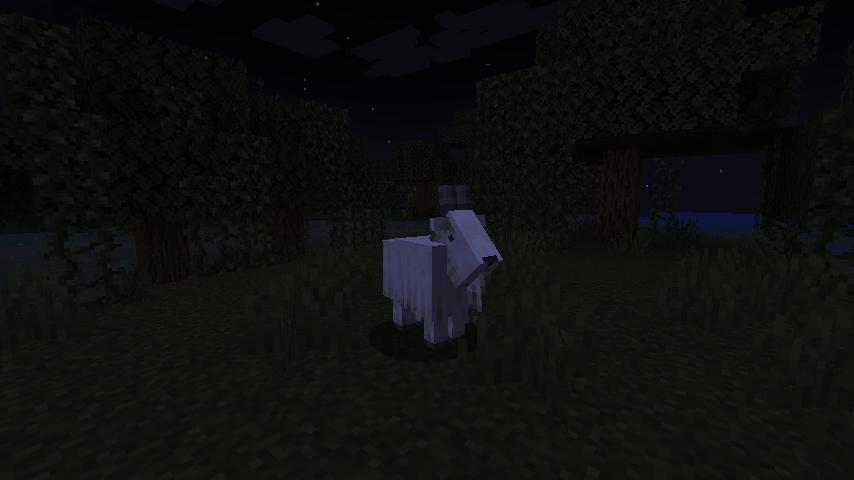goat: (379, 179, 507, 355)
